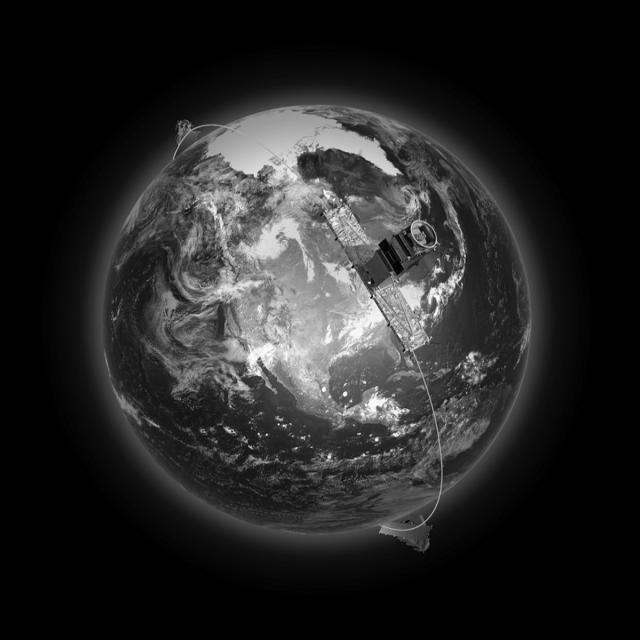medium_debris: (312, 174, 446, 368)
